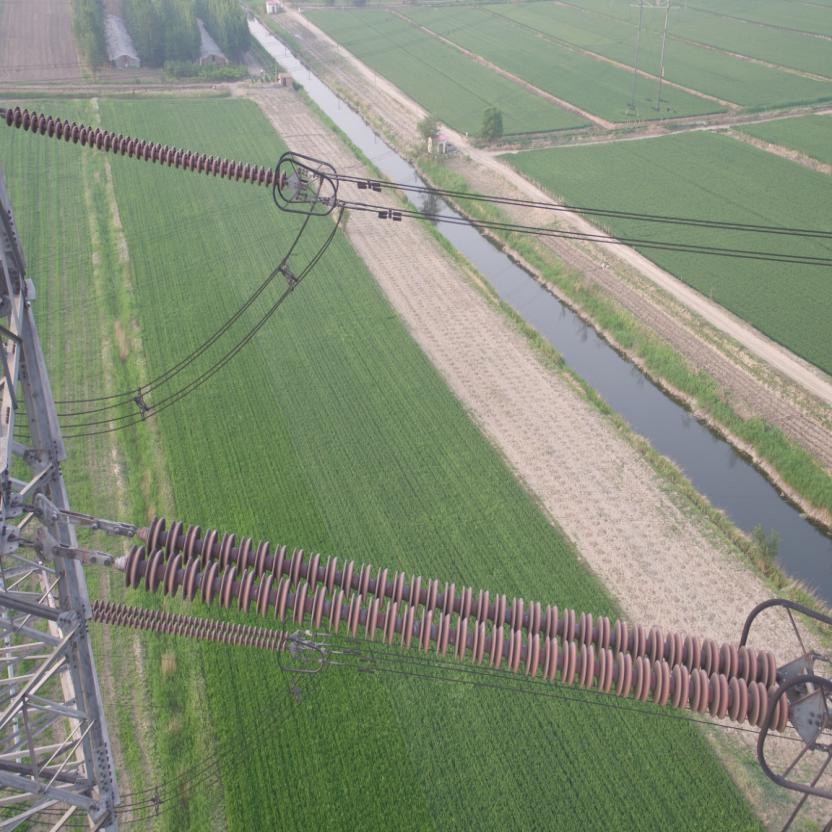insulator: (92, 501, 800, 733), (0, 100, 291, 193), (84, 597, 292, 655)
